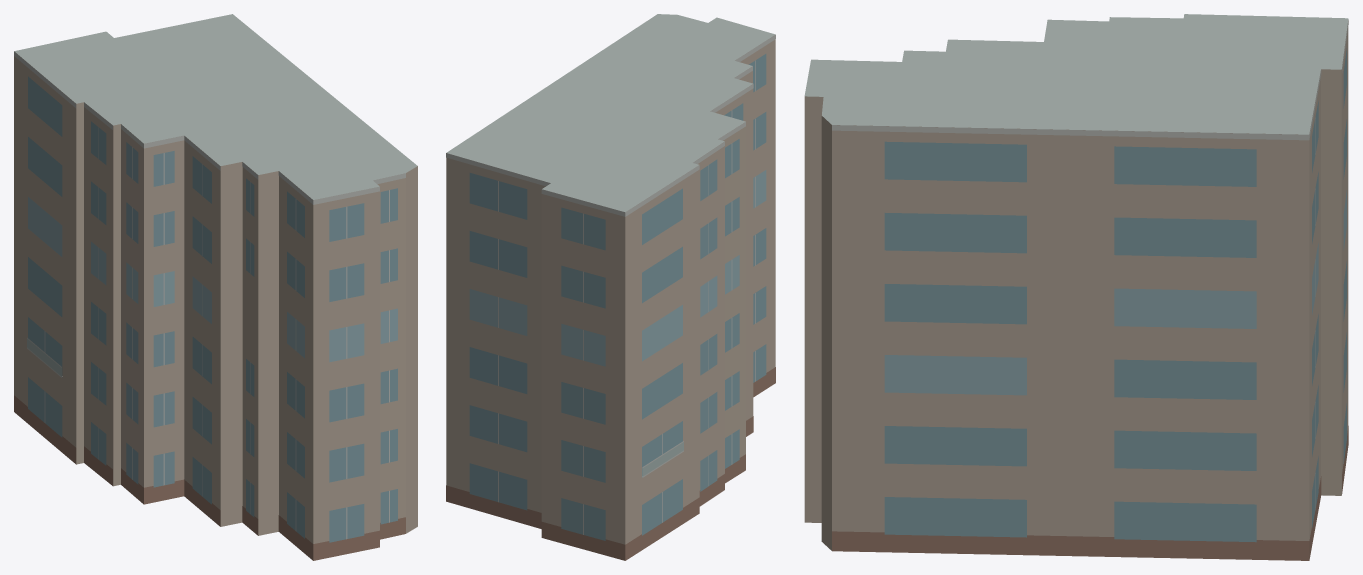
The model's file is survey-upis-32657884.glb.
The picture shows the model from 3 angles, left to right: view 1: azimuth 30°, elevation 25°; view 2: azimuth 150°, elevation 25°; view 3: azimuth 270°, elevation 25°; orthographic projection. The views are drawn at different scales.
Visible parts, largest first — view 1: survey-upis-32657884.tmp; view 2: survey-upis-32657884.tmp; view 3: survey-upis-32657884.tmp.
Boxes of the visible parts, <box> form: survey-upis-32657884.tmp: <box>14,14,417,560</box>; survey-upis-32657884.tmp: <box>446,14,775,560</box>; survey-upis-32657884.tmp: <box>804,14,1348,560</box>.
Bounding box in the file's own units: 11.12 × 18.3 × 21.18.
